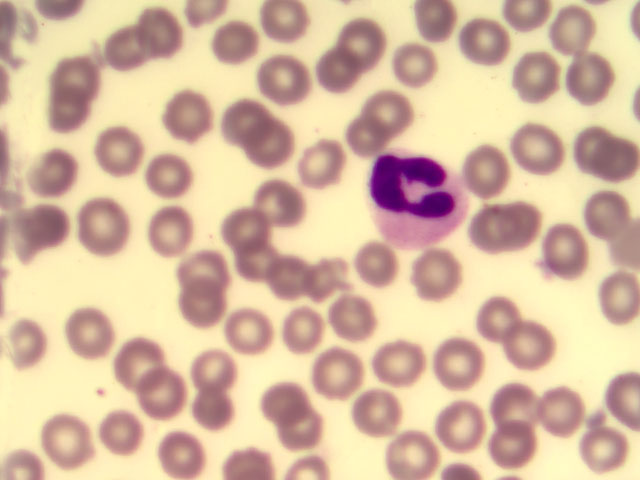RBC: (58, 301, 124, 364), (109, 323, 175, 386), (124, 363, 190, 426), (85, 402, 151, 465), (40, 413, 94, 469), (141, 423, 195, 479), (184, 384, 238, 440), (188, 339, 242, 395), (251, 366, 305, 422), (274, 402, 328, 458), (310, 340, 364, 396), (347, 382, 401, 438), (431, 394, 485, 450), (481, 420, 535, 476), (487, 370, 541, 426), (527, 383, 581, 439), (574, 409, 628, 465), (586, 373, 640, 429), (382, 427, 438, 480), (174, 283, 228, 326), (50, 52, 96, 100), (47, 92, 93, 140), (94, 27, 140, 75), (125, 8, 171, 56), (210, 21, 256, 69), (165, 93, 211, 141), (95, 127, 141, 175), (142, 150, 188, 198), (84, 202, 130, 250), (32, 201, 78, 249), (32, 149, 78, 197), (139, 202, 185, 250), (217, 201, 263, 249), (258, 175, 304, 223), (298, 136, 344, 184), (252, 127, 298, 175), (229, 92, 275, 140), (252, 57, 298, 105), (308, 44, 354, 92), (343, 18, 389, 66), (257, 3, 303, 51), (389, 39, 435, 87), (365, 92, 411, 140), (346, 109, 392, 157), (236, 241, 282, 289), (264, 250, 310, 298), (316, 256, 362, 304), (350, 239, 396, 287), (427, 248, 473, 296), (467, 203, 513, 251), (506, 201, 552, 249), (467, 146, 513, 194), (511, 124, 557, 172), (572, 118, 618, 166), (594, 137, 640, 185), (568, 55, 614, 103), (520, 55, 566, 103), (553, 11, 599, 59), (458, 15, 504, 63), (415, 5, 461, 53), (546, 226, 592, 274), (583, 193, 629, 241), (594, 269, 640, 317), (497, 324, 543, 372), (485, 296, 531, 344), (433, 344, 479, 392), (380, 340, 426, 388), (329, 297, 375, 345), (275, 302, 321, 350), (230, 305, 276, 353), (179, 243, 225, 291)
WBC: (364, 146, 466, 246)
